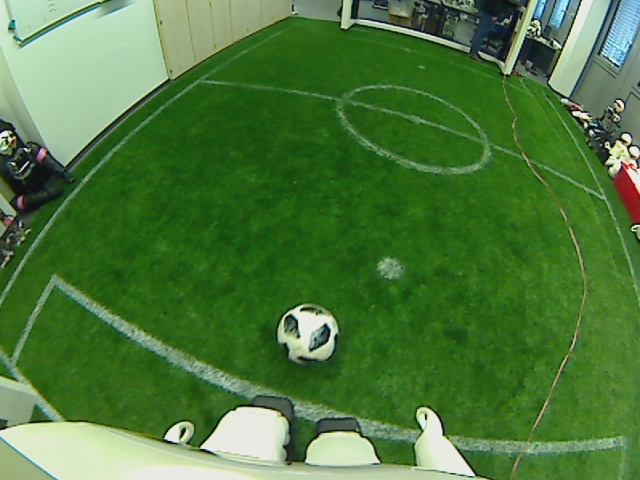ball: (272, 301, 341, 365)
